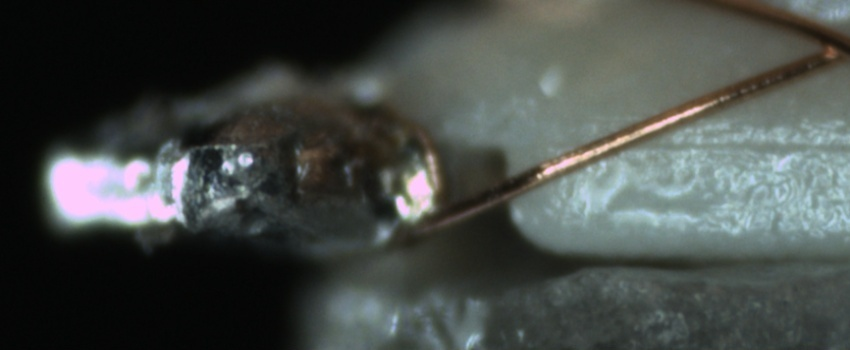CL: (795, 17, 850, 72)
DL: (610, 108, 845, 177)
TE: (390, 113, 449, 197)
